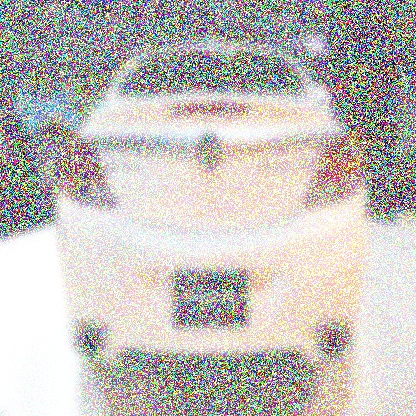Vehicle: (56, 39, 367, 378)
